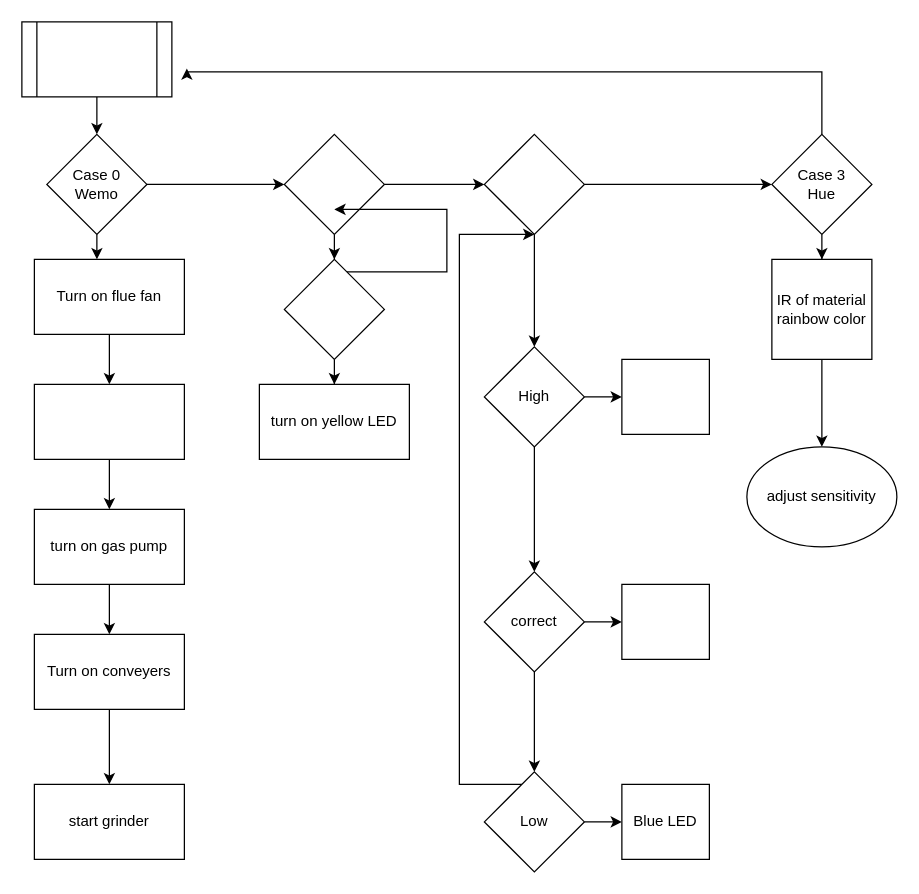
Image size: 919x894. Some labels were removed from this diagram. The shapes that lost their labels are listed below. From the top down, each one's box as (x1, y1, x2, y2) in pixels, then its label:
(21, 21, 172, 97): case 4
(283, 133, 384, 234): Case 1 sonar
(483, 133, 584, 234): Case 2 Temp
(283, 258, 384, 359): doping okay
(621, 358, 709, 434): Red LED
(33, 383, 184, 459): Turn on quench fluid pump
(621, 583, 709, 659): Clear LED
